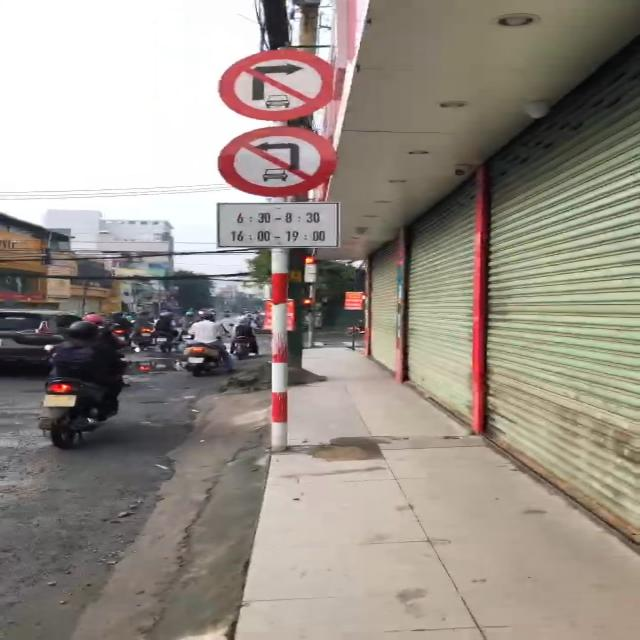Bien bao cam xe o to re phai: (216, 44, 346, 124)
Bien bao cam xe o to re trai: (207, 124, 346, 197)
